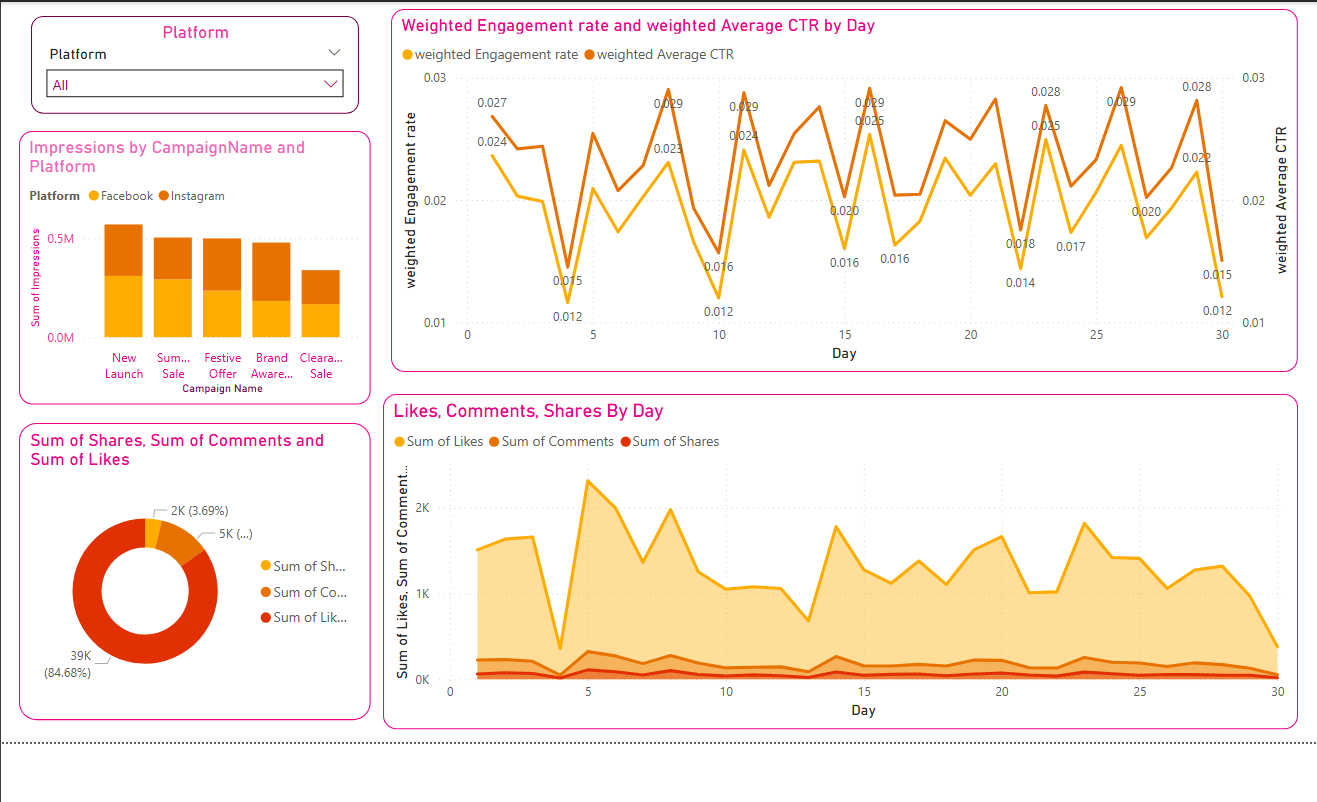

The page's visual inventory and layout, read from the dashboard file:
{"tool":"powerbi","page":{"name":"Page 2","canvas":[1280,720],"ordinal":1},"visuals":[{"type":"slicer","title":"Platform","fields":{"Values":["Social_Media_Campaign_Data (2).Platform"]},"box":[29.2,13.6,319,95.3],"z":0},{"type":"donutChart","fields":{"Y":["Sum(Social_Media_Campaign_Data (2).Shares)","Sum(Social_Media_Campaign_Data (2).Comments)","Sum(Social_Media_Campaign_Data (2).Likes)"]},"box":[17.5,409.5,342.4,288.9],"z":1000},{"type":"columnChart","title":" Impressions by CampaignName and Platform","fields":{"Category":["Social_Media_Campaign_Data (2).Campaign_Name"],"Y":["Sum(Social_Media_Campaign_Data (2).Impressions)"],"Series":["Social_Media_Campaign_Data (2).Platform"]},"box":[17.5,125.5,342.4,265.5],"z":2000},{"type":"areaChart","title":"Likes, Comments, Shares By Day","fields":{"Category":["Social_Media_Campaign_Data (2).Date.Variation.Date Hierarchy.Month","Social_Media_Campaign_Data (2).Date.Variation.Date Hierarchy.Day"],"Y":["Sum(Social_Media_Campaign_Data (2).Likes)","Sum(Social_Media_Campaign_Data (2).Comments)","Sum(Social_Media_Campaign_Data (2).Shares)"]},"box":[371.6,381.3,890,325.8],"z":3000},{"type":"lineChart","title":"Weighted Engagement rate and weighted Average CTR by Day","fields":{"Y":["Social_Media_Campaign_Data (2).weighted Engagement rate"],"Y2":["Social_Media_Campaign_Data (2).weighted Average CTR"],"Category":["Social_Media_Campaign_Data (2).Date.Variation.Date Hierarchy.Day"]},"box":[379.3,6.8,882.2,353.1],"z":4000}]}

Visuals, with their boxes on the page's 1280x720 design canvas (x1, y1, x2, y2). These are canvas units, not pixel positions in the 1317x802 screenshot, which may show the page scaled, cropped or inside an application window:
"Platform" slicer: 29:14:348:109
donutChart - Sum(Social_Media_Campaign_Data (2).Shares) x Sum(Social_Media_Campaign_Data (2).Comments): 18:410:360:698
" Impressions by CampaignName and Platform" columnChart: 18:126:360:391
"Likes, Comments, Shares By Day" areaChart: 372:381:1262:707
"Weighted Engagement rate and weighted Average CTR by Day" lineChart: 379:7:1262:360
